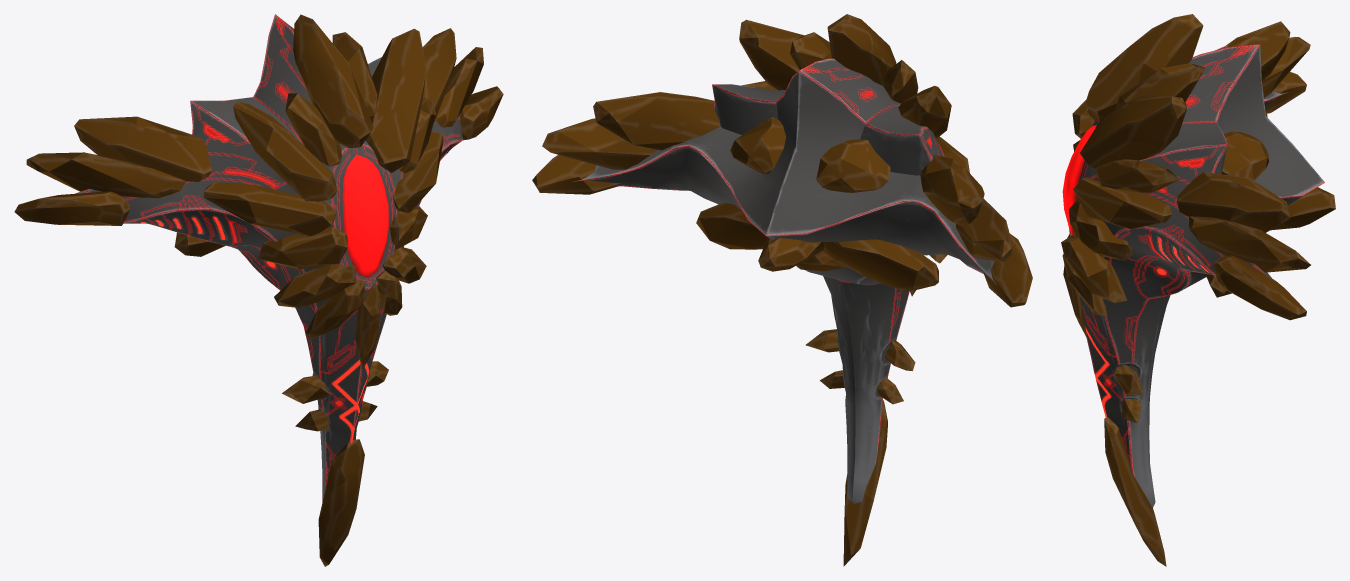
3 views of the same model, side by side, from view 1: azimuth 30°, elevation 25°; view 2: azimuth 150°, elevation 25°; view 3: azimuth 270°, elevation 25° (orthographic). The views are drawn at different scales.
Parts seen in each view (by area): view 1: Rocks, Body; view 2: Rocks, Body; view 3: Rocks, Body.
Boxes of the visible parts, <box> form: Rocks: <box>14,14,503,566</box>; Body: <box>74,14,463,502</box>; Rocks: <box>532,14,1032,566</box>; Body: <box>571,58,996,503</box>; Rocks: <box>1061,14,1335,566</box>; Body: <box>1062,44,1324,507</box>.
Bounding box in the file's own units: 132 × 142 × 64.71.
Materials: 2 (2 with a texture image).
